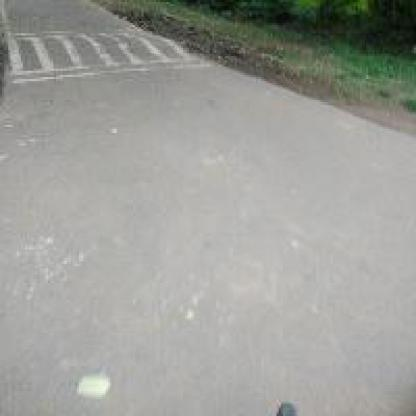Speed Bump: (2, 23, 212, 87)
